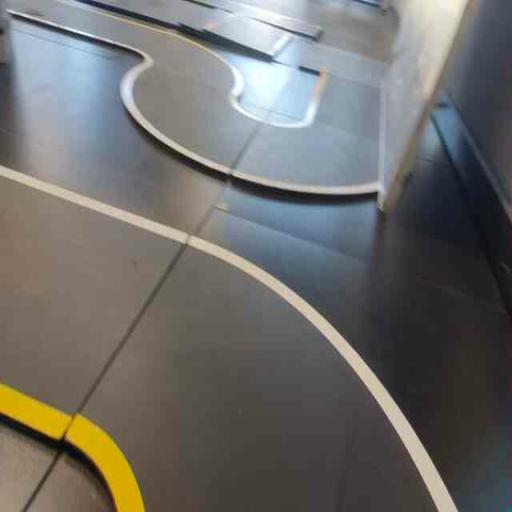left: (51, 204, 473, 511)
